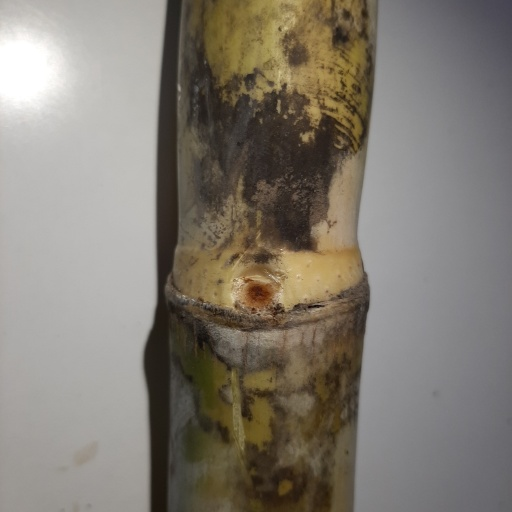Damage_Bud: (234, 280, 281, 311)
